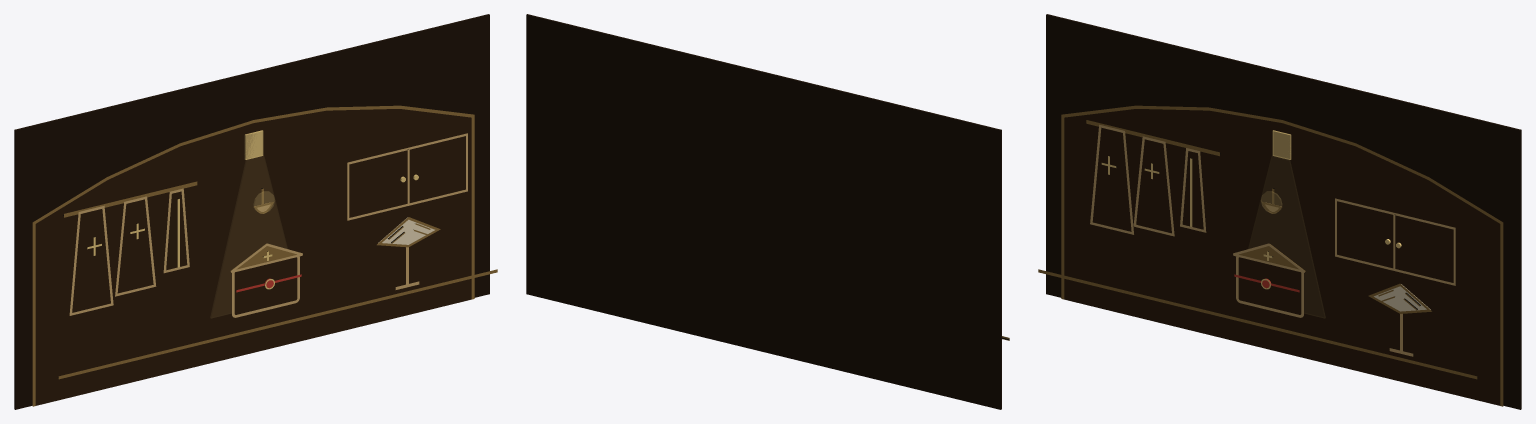
File: loc-riznitsa.glb
The picture shows the model from 3 angles, left to right: view 1: azimuth 30°, elevation 25°; view 2: azimuth 150°, elevation 25°; view 3: azimuth 330°, elevation 25°; orthographic projection.
Visible parts, largest first — view 1: loc-riznitsa; view 2: loc-riznitsa; view 3: loc-riznitsa.
Part boxes in pixels (x1,y1,x2,y2): loc-riznitsa: [14, 14, 497, 409]; loc-riznitsa: [526, 14, 1009, 409]; loc-riznitsa: [1038, 14, 1521, 409].
Size of the model in its own units: 5.33 by 3 by 0.521.
